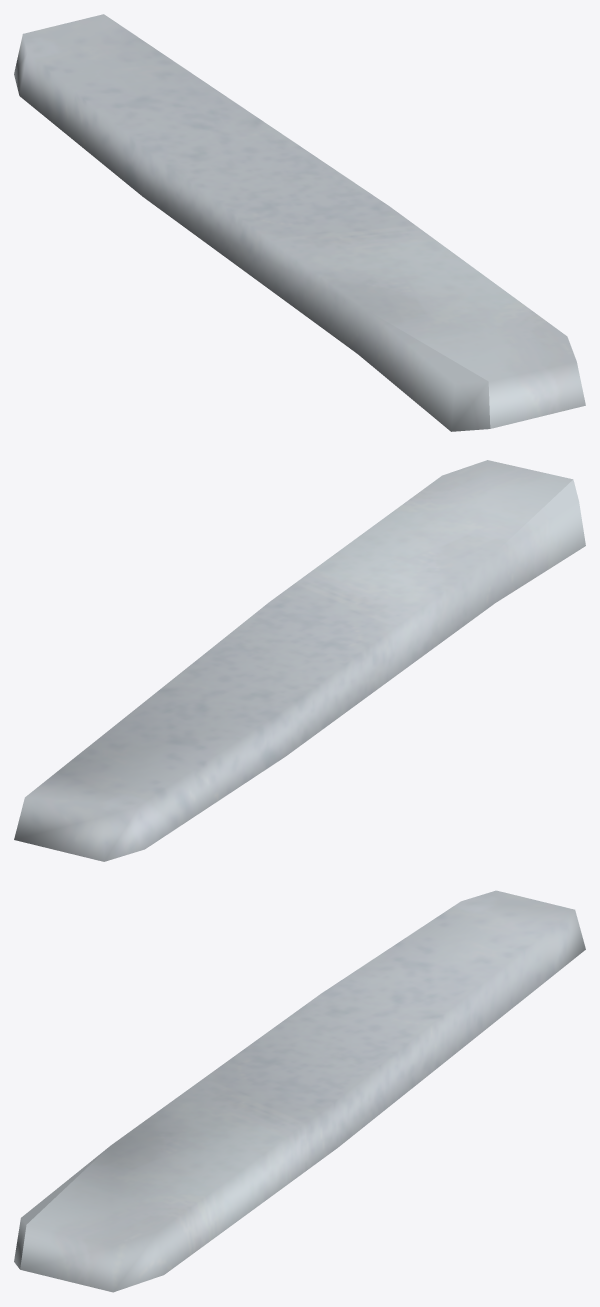
The model's file is Temple_Stone_3_Snow.fbx.
The picture shows the model from 3 angles, top to bottom: view 1: azimuth 30°, elevation 25°; view 2: azimuth 150°, elevation 25°; view 3: azimuth 330°, elevation 25°; orthographic projection. The views are drawn at different scales.
Visible parts, largest first — view 1: Temple_Stone_3_Snow; view 2: Temple_Stone_3_Snow; view 3: Temple_Stone_3_Snow.
Boxes of the visible parts, x1,y1,x2,y2 form: Temple_Stone_3_Snow: [14, 14, 585, 431]; Temple_Stone_3_Snow: [14, 460, 585, 861]; Temple_Stone_3_Snow: [14, 890, 585, 1292].
Size of the model in its own units: 50 by 18.28 by 300.
